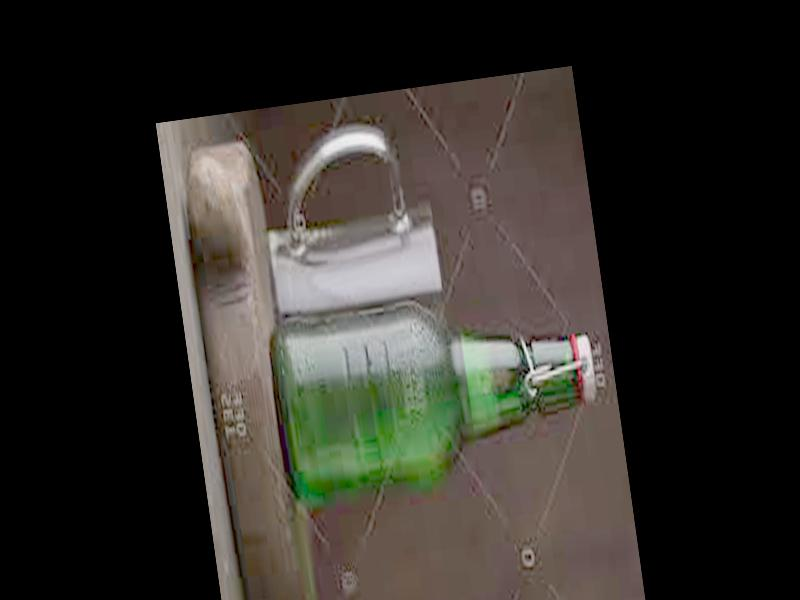Beer: (265, 283, 605, 503)
